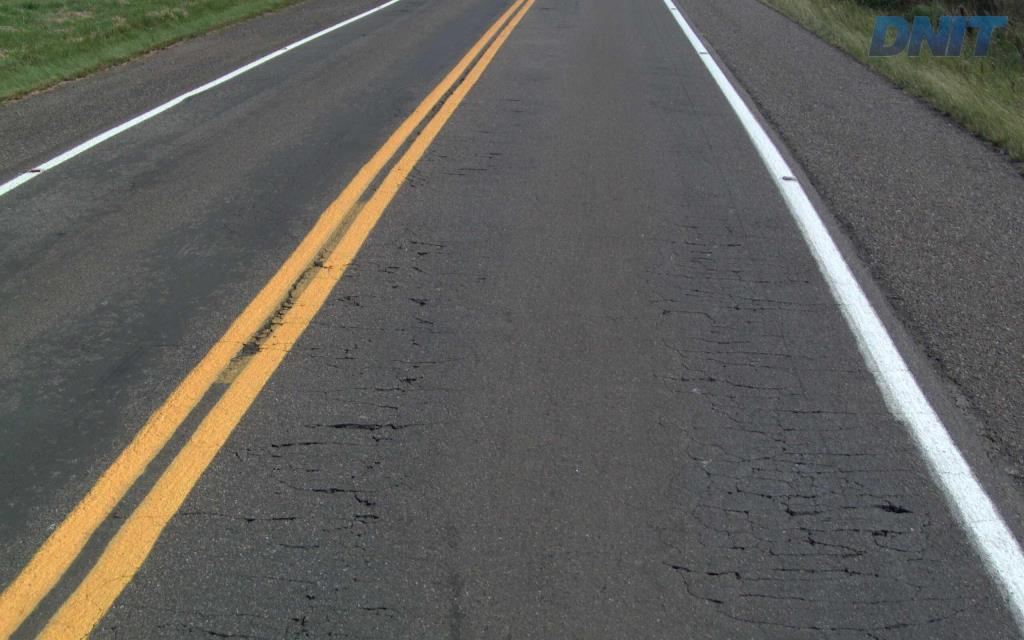crack: (311, 483, 383, 534), (796, 520, 868, 563), (175, 622, 269, 639), (443, 572, 466, 639), (325, 419, 424, 434), (852, 616, 916, 639), (283, 614, 330, 639)
